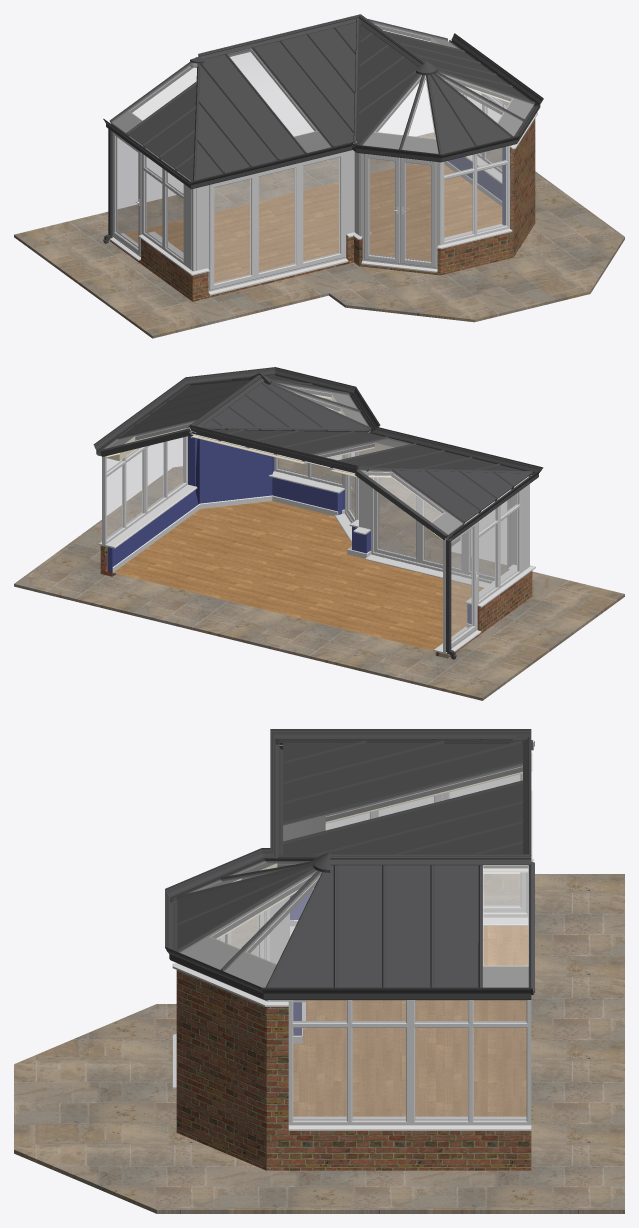
3 renders of one model, top to bottom at view 1: azimuth 30°, elevation 25°; view 2: azimuth 150°, elevation 25°; view 3: azimuth 270°, elevation 25°, orthographic. The views are drawn at different scales.
Parts seen in each view (by area): view 1: Conservatory; view 2: Conservatory; view 3: Conservatory.
Boxes of the visible parts, x1,y1,x2,y2 form: Conservatory: (14, 14, 624, 338); Conservatory: (14, 367, 624, 700); Conservatory: (14, 729, 624, 1213).
Size of the model in its own units: 9.89 by 3.54 by 7.6.
10 materials, 3 textured.
